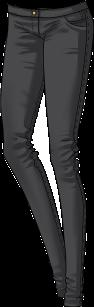Hemline: (54, 292, 66, 300), (65, 302, 83, 306)
Pantleg: (2, 6, 66, 298), (36, 2, 93, 306)
Waistline: (9, 5, 88, 19), (8, 0, 85, 12)
